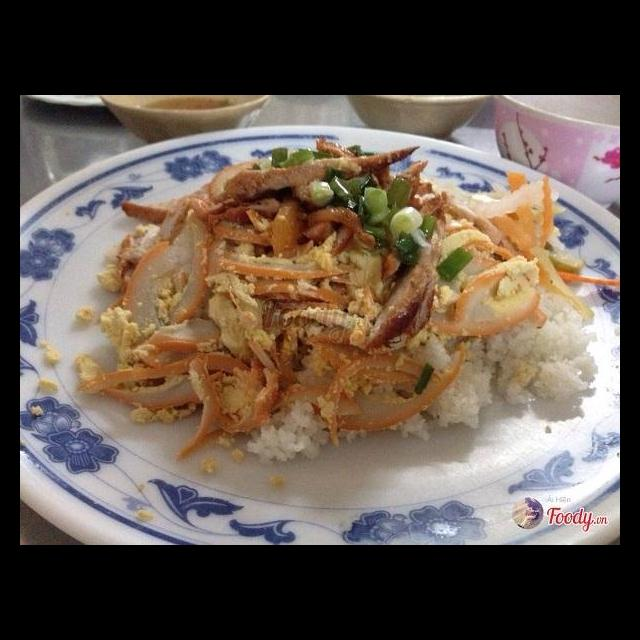com: (492, 283, 601, 406), (412, 331, 500, 444), (244, 399, 333, 463)
com suon trung: (26, 126, 618, 545)
dua chua: (432, 169, 600, 323)
suon: (115, 132, 454, 250), (358, 224, 448, 351)
trung: (199, 236, 385, 437), (70, 217, 214, 427), (434, 217, 544, 341)
